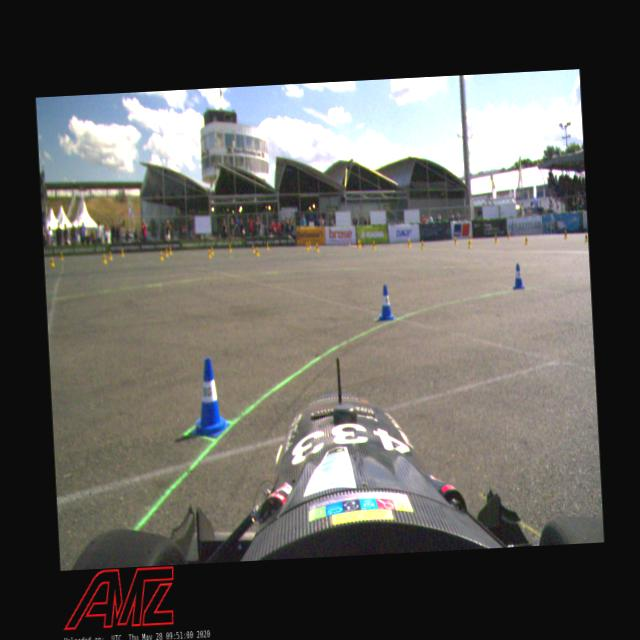blue_cone: (192, 358, 230, 439), (376, 285, 395, 321), (512, 263, 524, 289)
